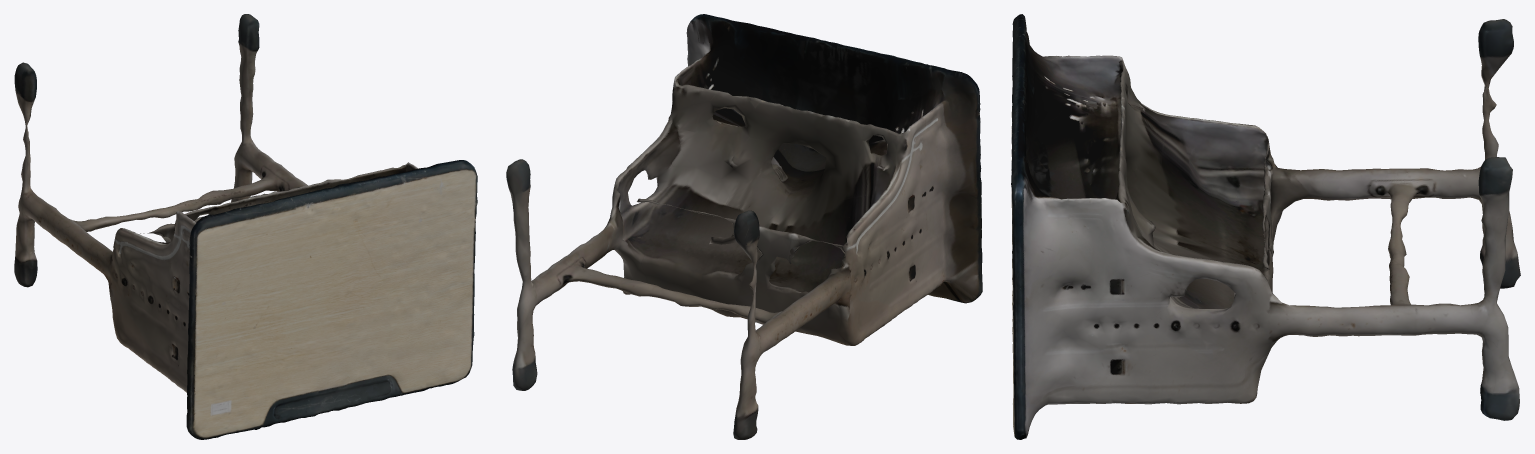
File: Student_table.obj
The picture shows the model from 3 angles, left to right: view 1: azimuth 30°, elevation 25°; view 2: azimuth 150°, elevation 25°; view 3: azimuth 270°, elevation 25°; orthographic projection. The views are drawn at different scales.
Visible parts, largest first — view 1: obj1; view 2: obj1; view 3: obj1.
Part boxes in pixels (box(x1,y1,x2,y2)): obj1: box(14, 14, 477, 439); obj1: box(506, 14, 982, 439); obj1: box(1011, 14, 1520, 439).
Size of the model in its own units: 0.6039 by 0.463 by 0.762.
Materials: 1 (1 with a texture image).
